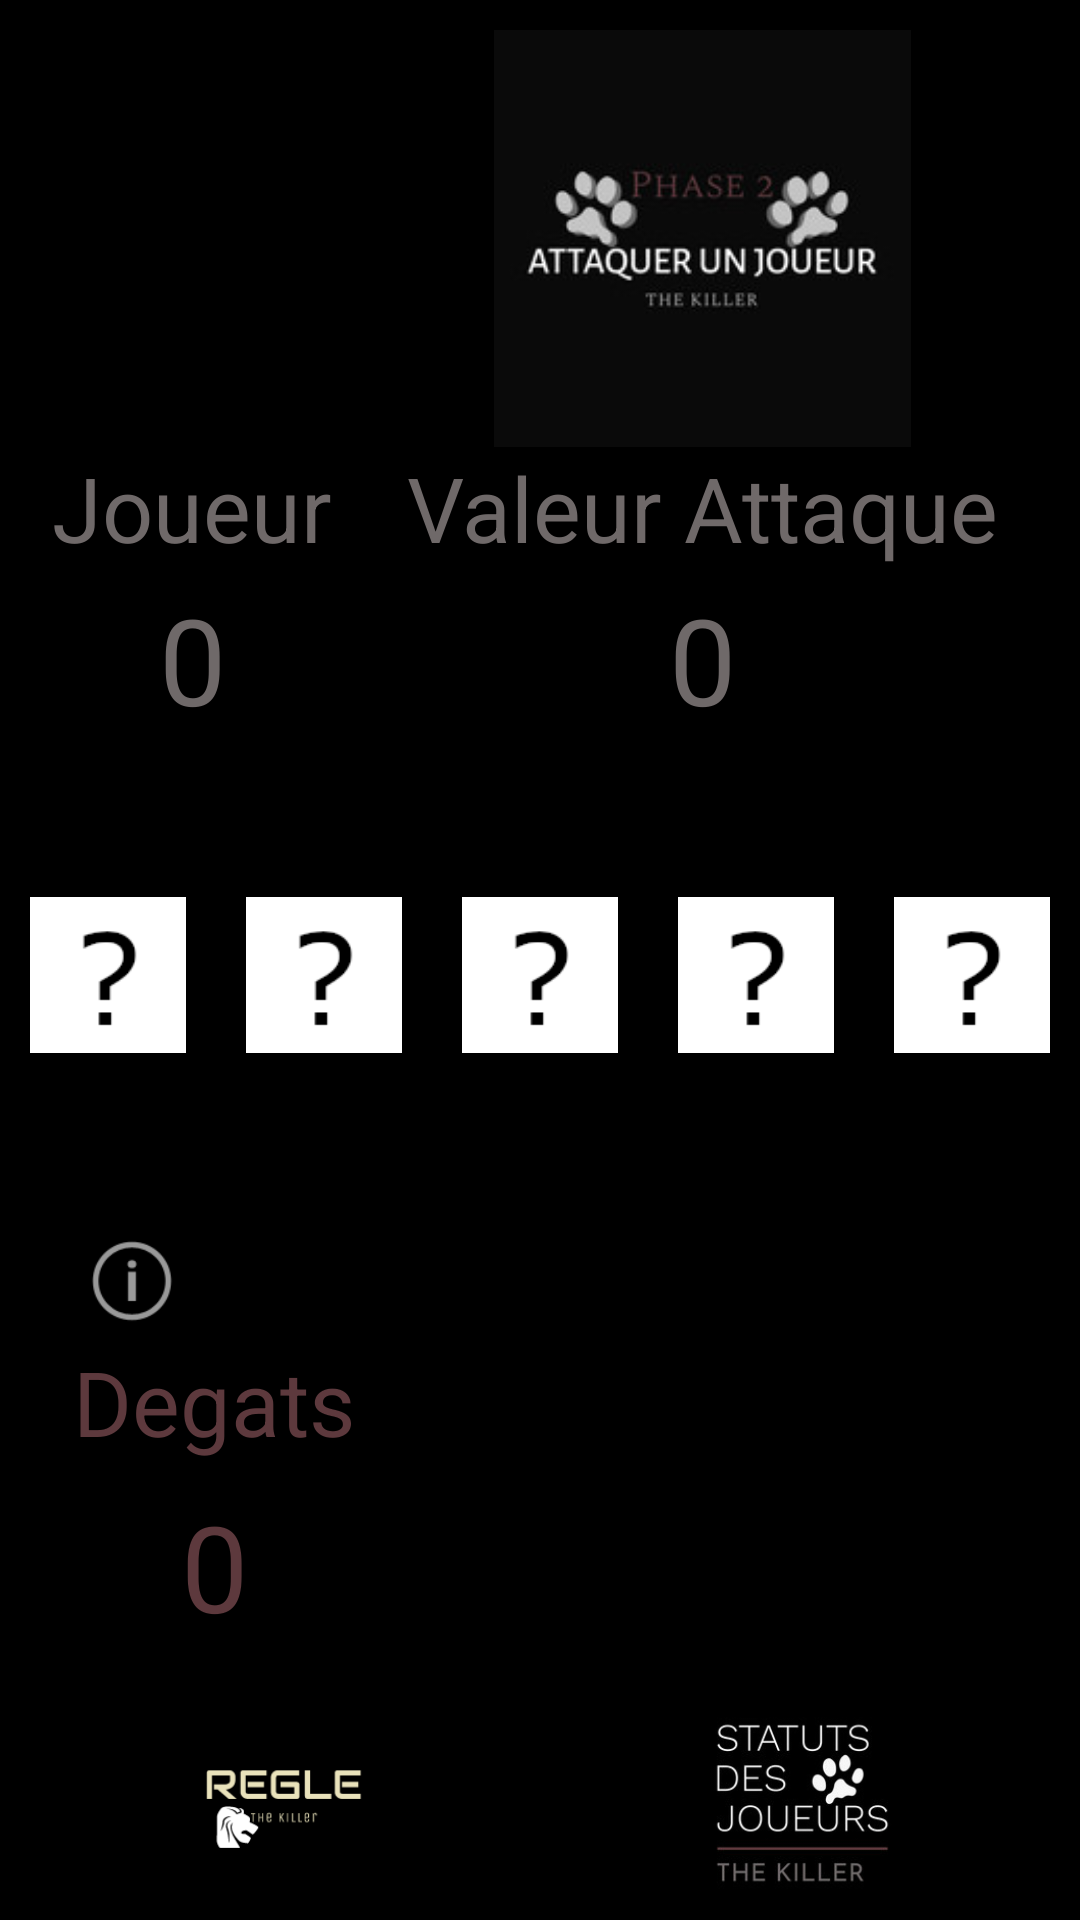

Screen size 1080px×1920px. Icon name, then its center in pixels as point (x, y):
des inconnu: point (108, 975), point (324, 975), point (540, 975), point (756, 975), point (972, 975)
info details: point (132, 1281)
